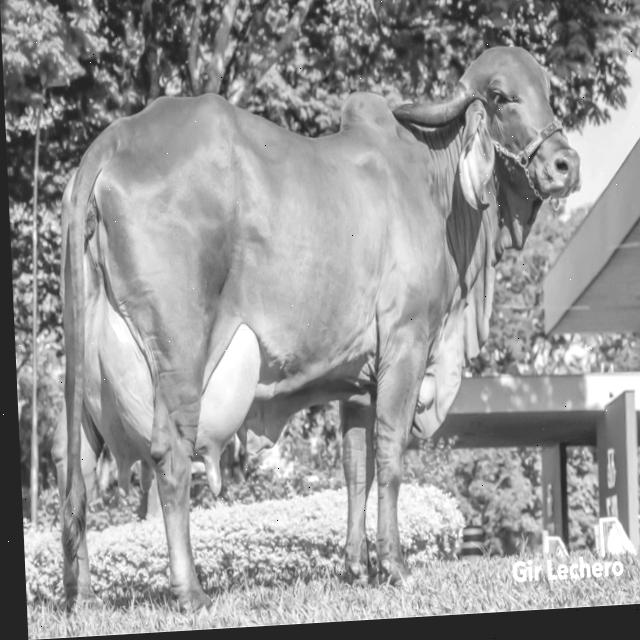Cow: (34, 40, 600, 623)
